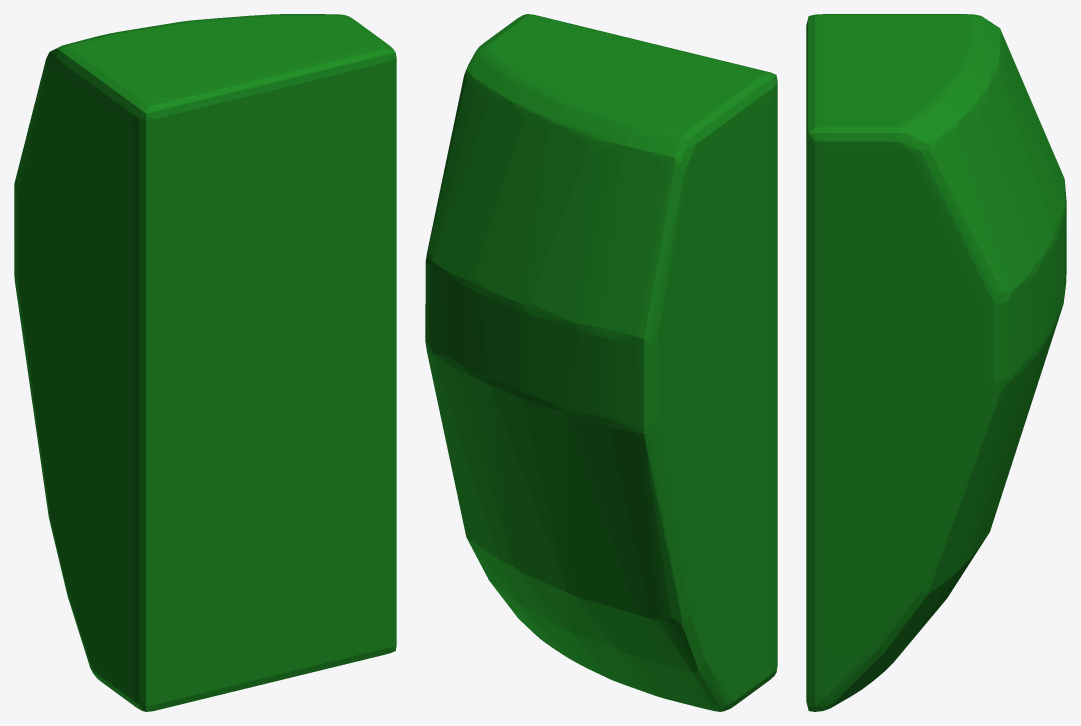
The model's file is left_hip_roll_link_part_8.obj.
3 views of the same model, side by side, from view 1: azimuth 30°, elevation 25°; view 2: azimuth 150°, elevation 25°; view 3: azimuth 270°, elevation 25° (orthographic). The views are drawn at different scales.
Bounding box in the file's own units: 0.0336 × 0.0752 × 0.0303.
